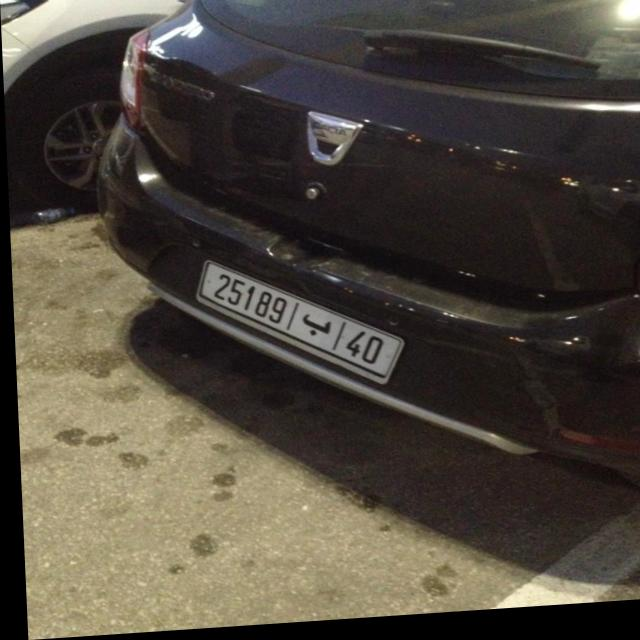License-Plate: (194, 264, 399, 389)
